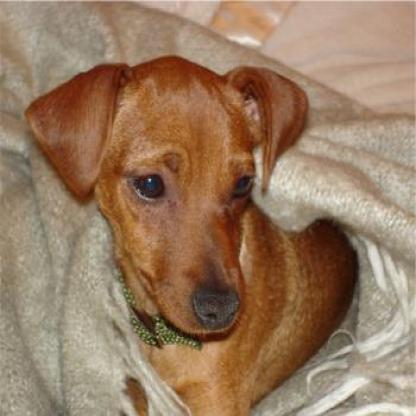miniature_pinscher: (21, 55, 359, 411)
